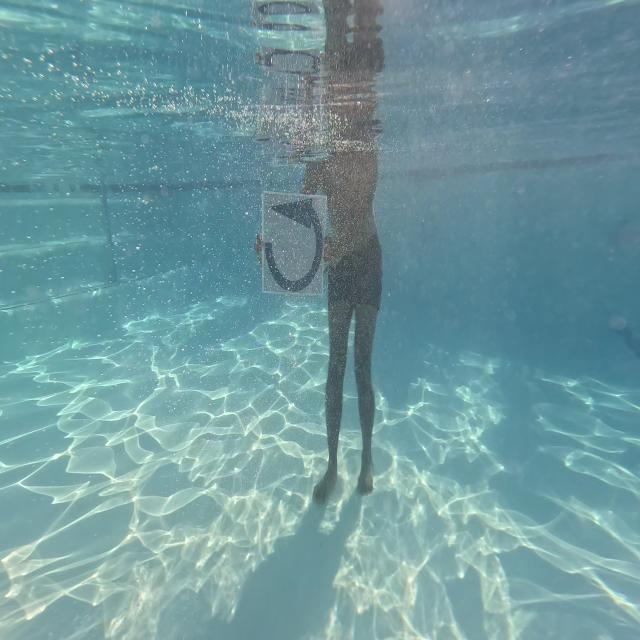blue_side: (256, 172, 332, 302)
